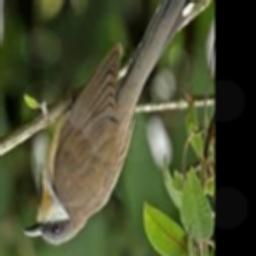Cuckoo: (22, 0, 193, 246)
